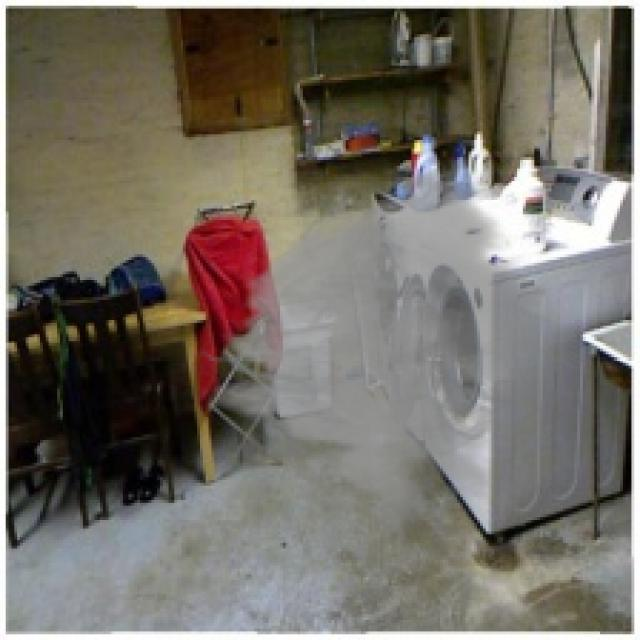Smoke: (194, 168, 583, 538)
